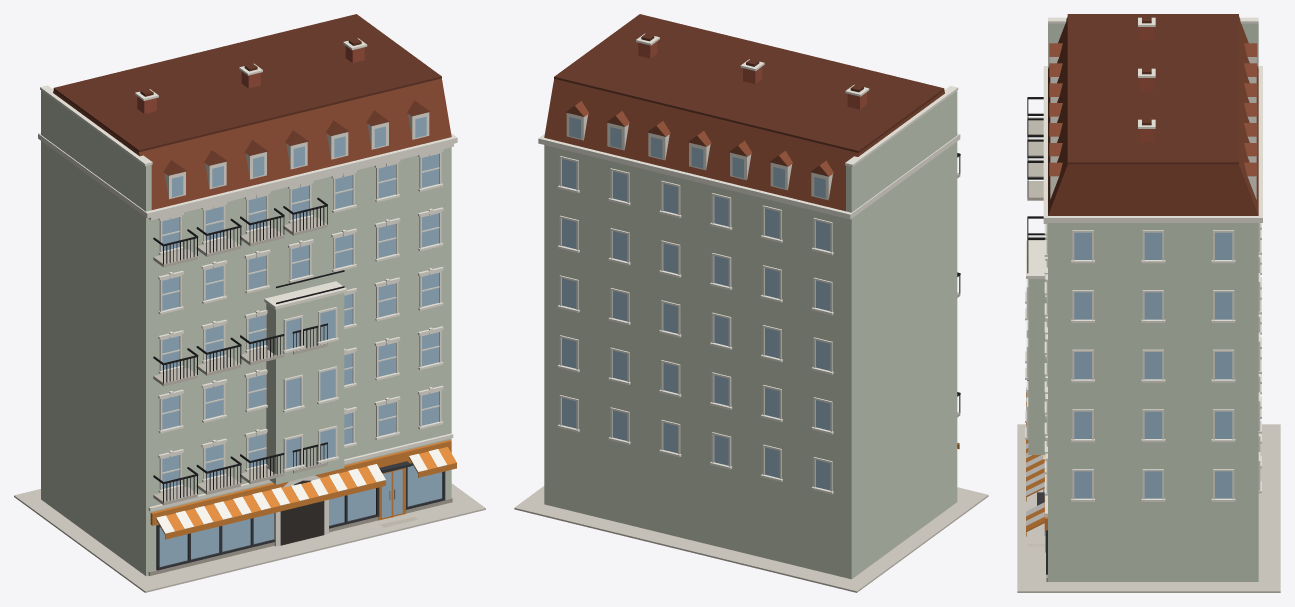
The model's file is Konut_ref_altbau_Hafif.fbx.
3 renders of one model, left to right at view 1: azimuth 30°, elevation 25°; view 2: azimuth 150°, elevation 25°; view 3: azimuth 270°, elevation 25°, orthographic.
Parts seen in each view (by area): view 1: Konut_ref_altbau_Hafif; view 2: Konut_ref_altbau_Hafif; view 3: Konut_ref_altbau_Hafif.
Part boxes in pixels (x1,y1,x2,y2): Konut_ref_altbau_Hafif: (14, 14, 485, 592); Konut_ref_altbau_Hafif: (514, 14, 988, 592); Konut_ref_altbau_Hafif: (1017, 14, 1280, 592).
Size of the model in its own units: 18 by 22.14 by 12.
